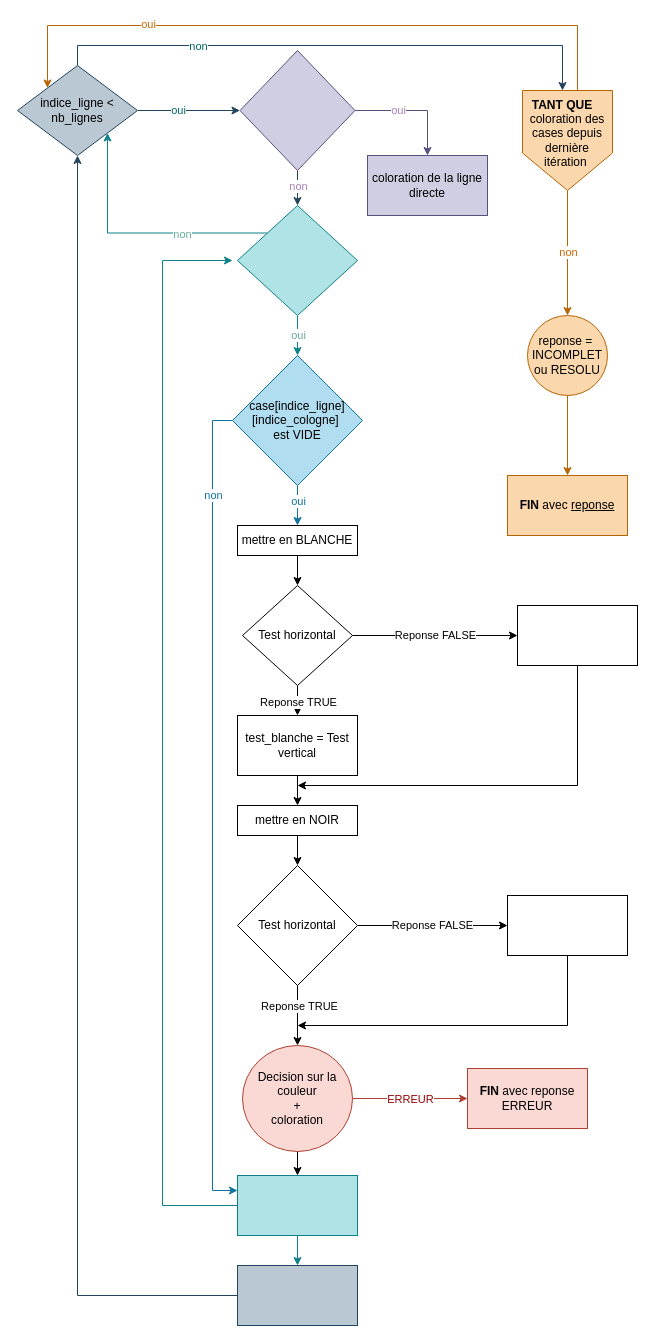
This 655x1343 diagram has some shape labels left out. The centre of each missing label's shape, as x and y in pixels:
"incrementer indice_colone" belongs at point 297,1205.
"incremnter indice_ligne" belongs at point 297,1295.
"indice_colonne < nb_colonnes" belongs at point 297,260.
"longeur_ligne = nb_noires + nb_blanches" belongs at point 297,110.
"test_blanche = Test horizontal" belongs at point 577,635.
"test_noir = Test horizontal" belongs at point 567,925.
